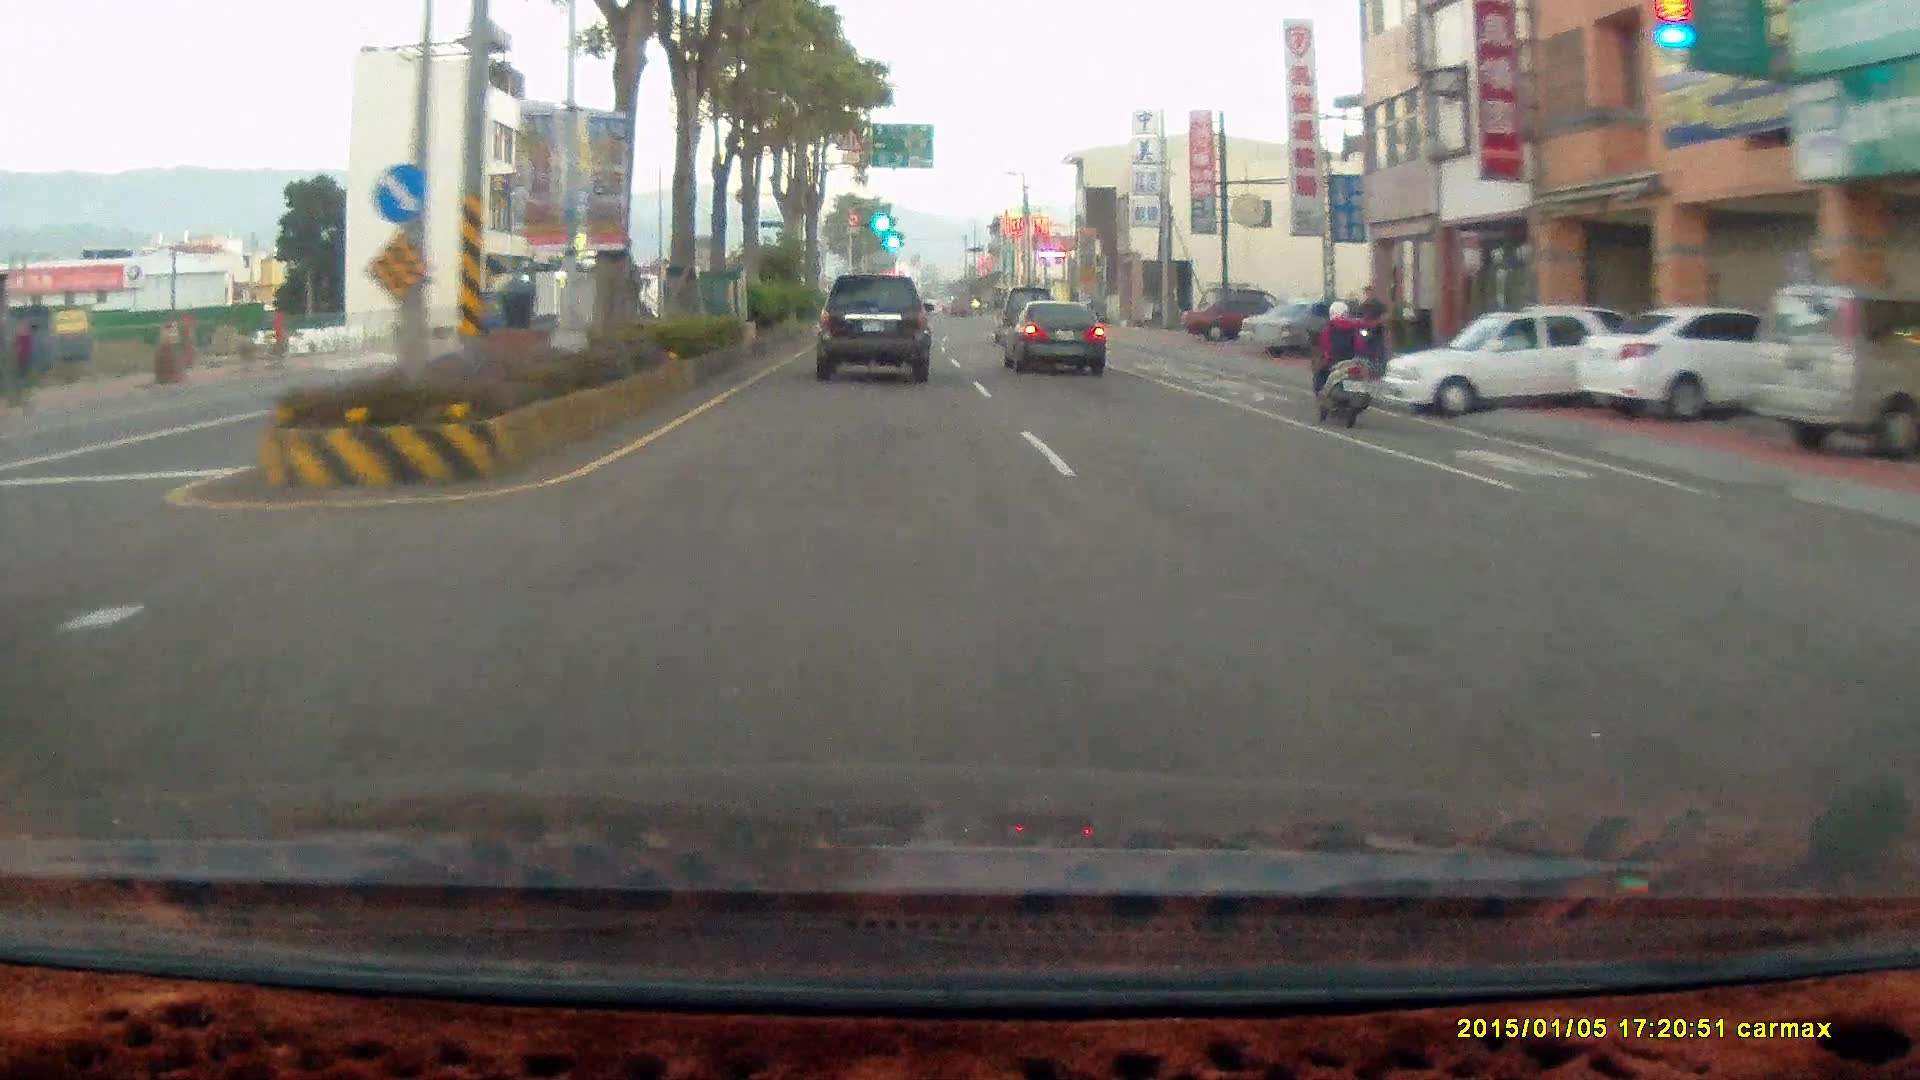pedestrian: (1350, 283, 1389, 380), (9, 320, 37, 415)
rider: (1300, 288, 1382, 431), (1305, 302, 1371, 431)
vehicle: (1575, 305, 1845, 426), (1747, 286, 1920, 464), (1379, 305, 1664, 412), (1382, 307, 1624, 415), (1569, 311, 1784, 428), (809, 273, 939, 387), (813, 275, 933, 386), (1240, 296, 1386, 359), (1240, 298, 1386, 360), (1001, 298, 1105, 377), (1007, 303, 1109, 380), (1184, 299, 1298, 342), (993, 287, 1056, 344)
